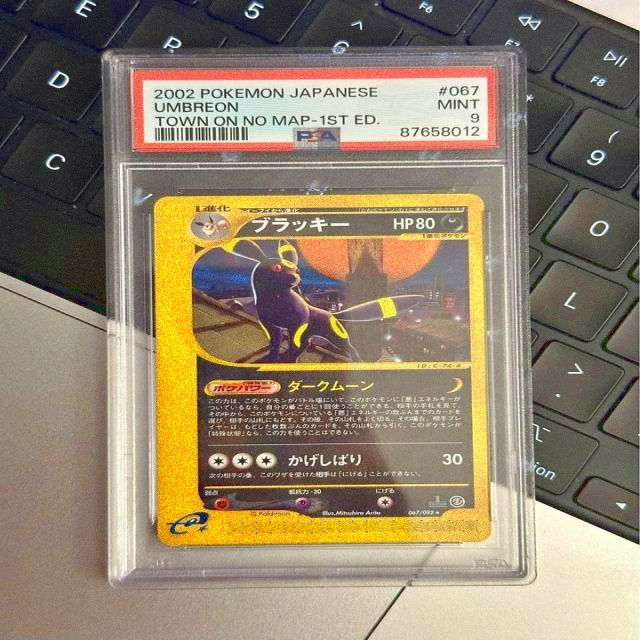card: (153, 193, 491, 546)
